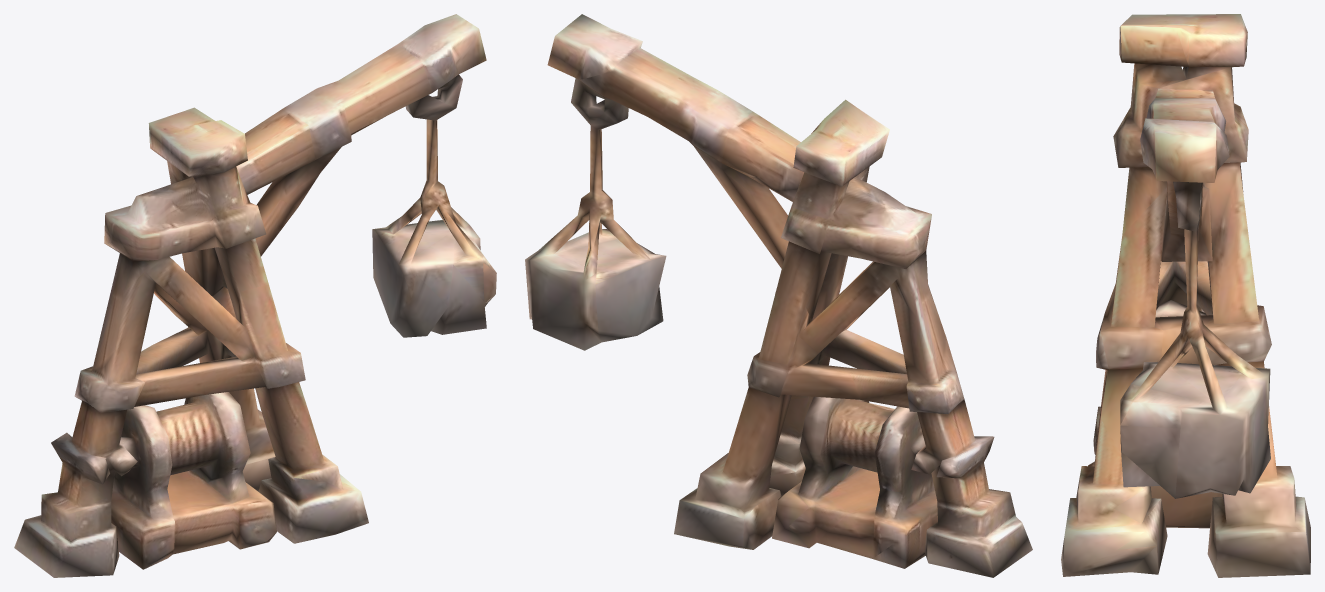
Rendered from quarry_crane.glb.
3 views of the same model, side by side, from view 1: azimuth 30°, elevation 25°; view 2: azimuth 150°, elevation 25°; view 3: azimuth 270°, elevation 25° (orthographic). The views are drawn at different scales.
Parts seen in each view (by area): view 1: quarry_crane; view 2: quarry_crane; view 3: quarry_crane.
Part boxes in pixels (bbox=[...]): quarry_crane: bbox=[14, 14, 496, 577]; quarry_crane: bbox=[525, 14, 1032, 577]; quarry_crane: bbox=[1061, 14, 1310, 577].
Size of the model in its own units: 4.34 by 4 by 1.66.
1 material, 1 textured.
